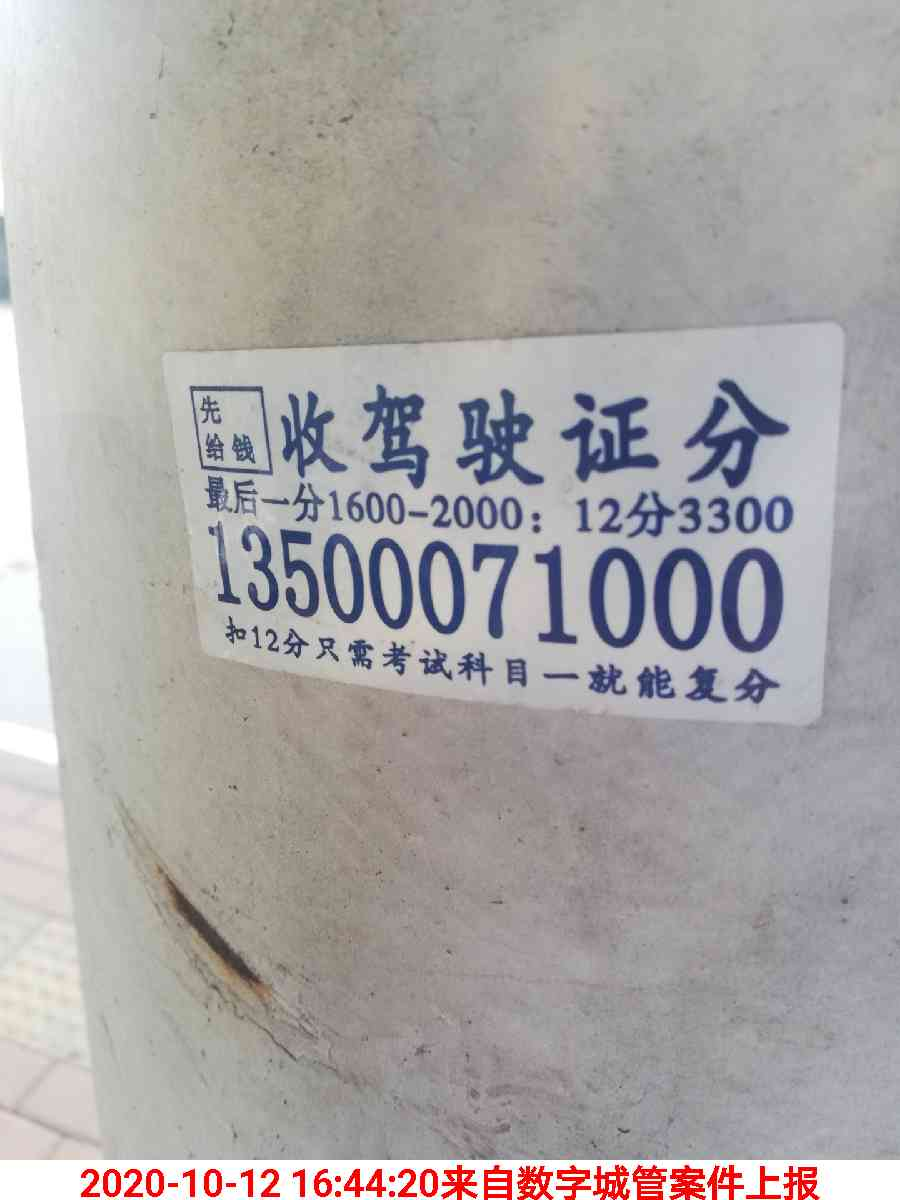paper: (122, 311, 896, 755)
